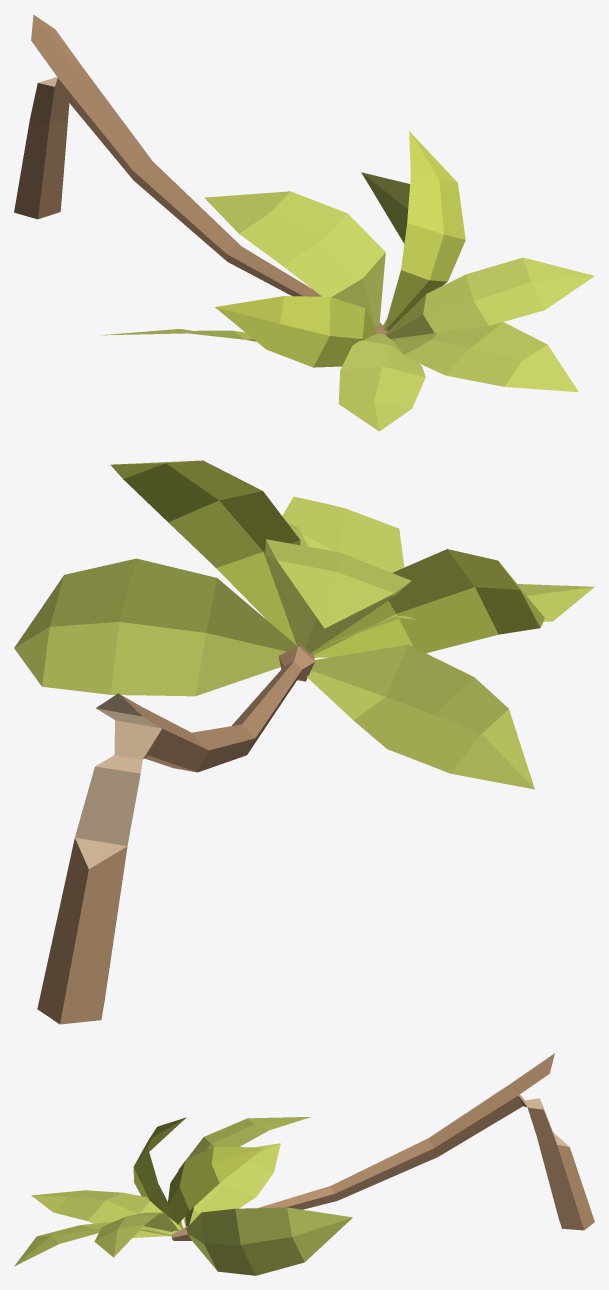
Rendered from Palm_Tree_crk_l_02_LOD.fbx.
3 views of the same model, one above another, from view 1: azimuth 30°, elevation 25°; view 2: azimuth 150°, elevation 25°; view 3: azimuth 270°, elevation 25° (orthographic). The views are drawn at different scales.
Parts seen in each view (by area): view 1: Palm_Tree_crk_l_02_LOD0; view 2: Palm_Tree_crk_l_02_LOD0; view 3: Palm_Tree_crk_l_02_LOD0.
Part boxes in pixels (x1,y1,x2,y2): Palm_Tree_crk_l_02_LOD0: (14,14,594,431); Palm_Tree_crk_l_02_LOD0: (14,460,594,1024); Palm_Tree_crk_l_02_LOD0: (14,1053,594,1275).
Size of what is drawn, in the model's own units: 494 by 255 by 820.
